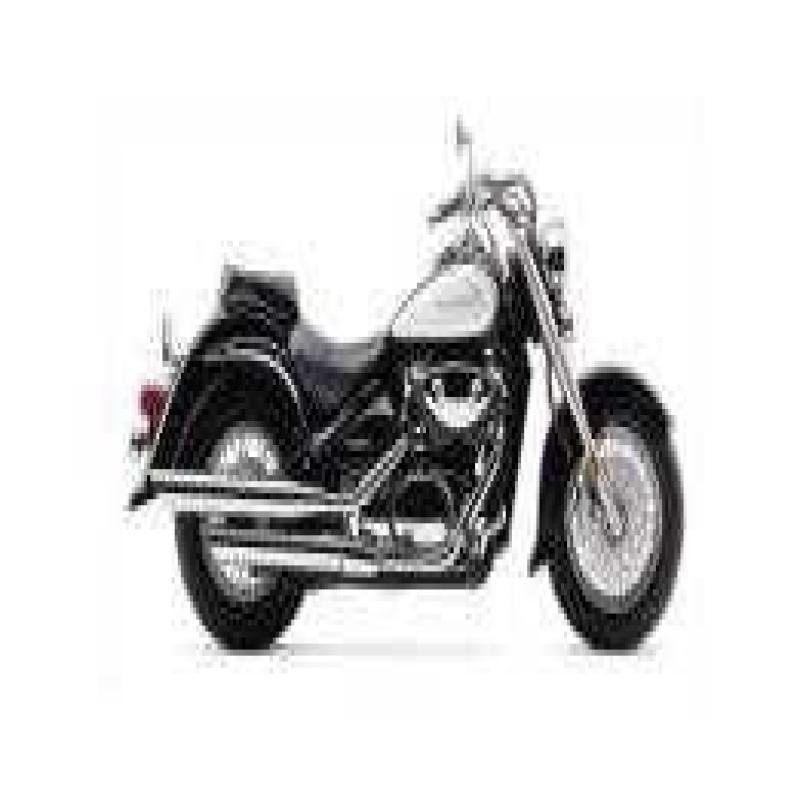bike: (125, 64, 690, 668)
